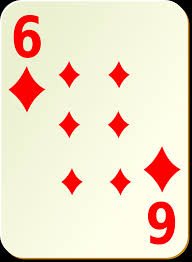six of diamonds: (4, 4, 183, 253)
